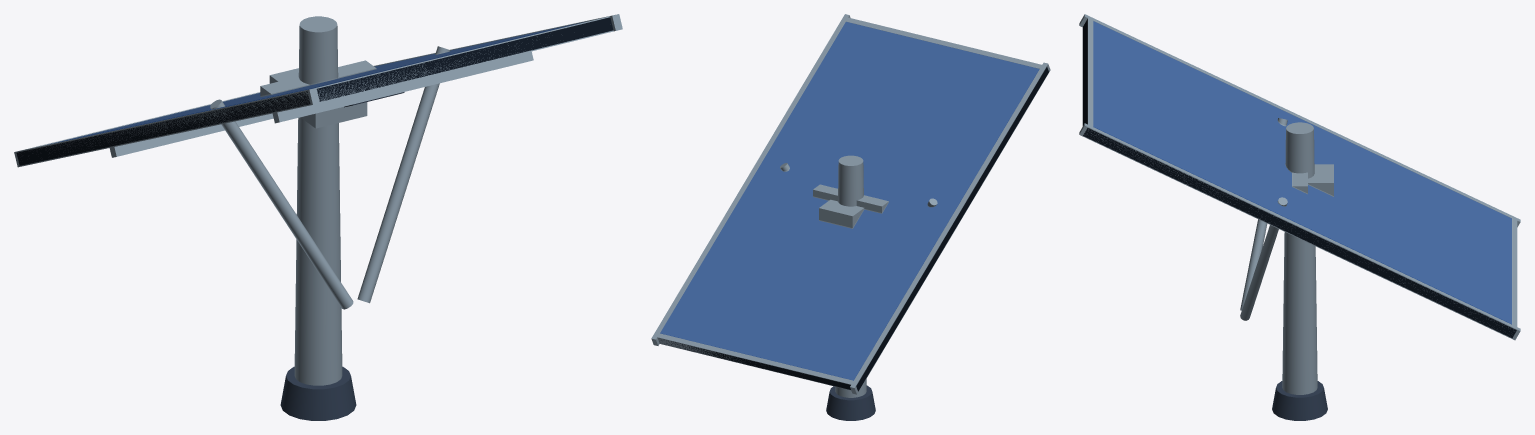
File: vikram-hypersol.glb
The picture shows the model from 3 angles, left to right: view 1: azimuth 30°, elevation 25°; view 2: azimuth 150°, elevation 25°; view 3: azimuth 270°, elevation 25°; orthographic projection. The views are drawn at different scales.
Bounding box in the file's own units: 1.32 × 1.87 × 2.21.
